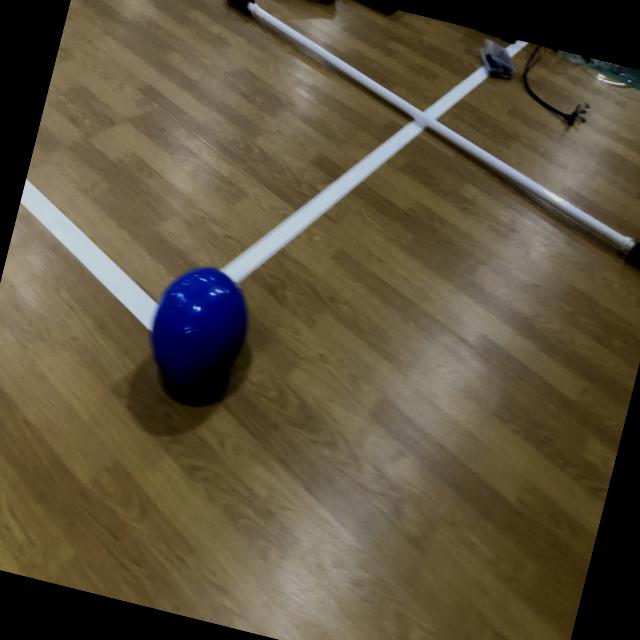blue_ball: (139, 252, 263, 403)
